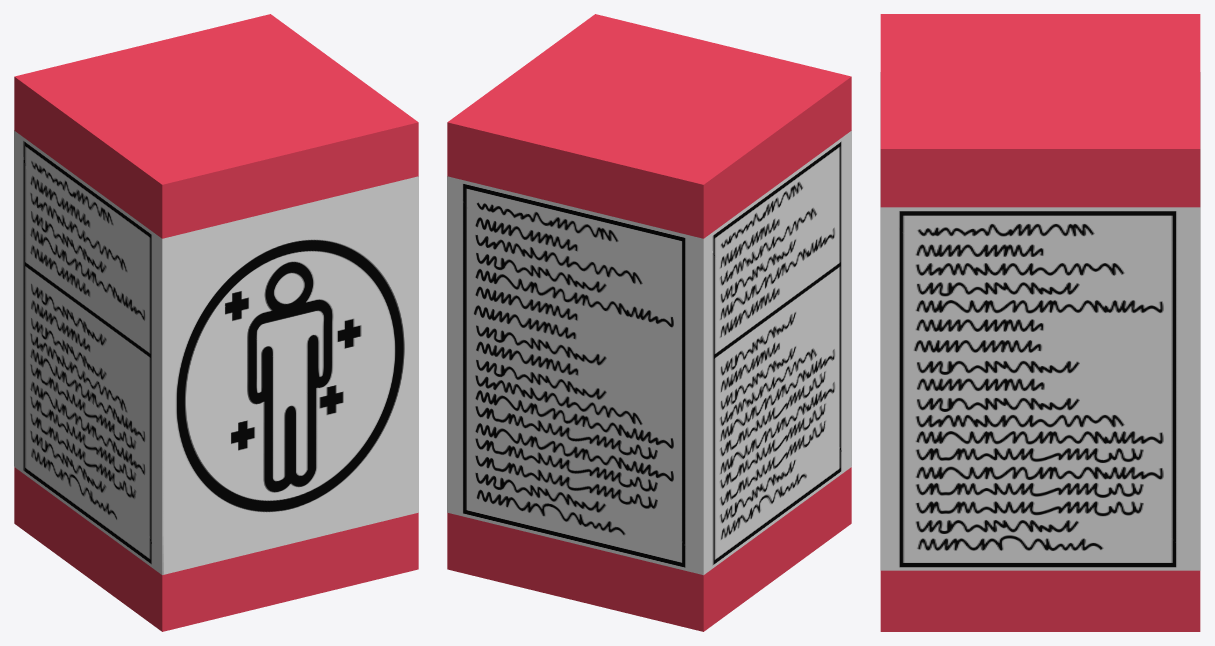
The model's file is genPainOTC.fbx.
3 views of the same model, side by side, from view 1: azimuth 30°, elevation 25°; view 2: azimuth 150°, elevation 25°; view 3: azimuth 270°, elevation 25° (orthographic). The views are drawn at different scales.
Visible parts, largest first — view 1: genPainLabel, painReliefBox; view 2: genPainLabel, painReliefBox; view 3: genPainLabel, painReliefBox.
Boxes of the visible parts, bbox=[...] form: genPainLabel: bbox=[14, 130, 418, 574]; painReliefBox: bbox=[14, 14, 418, 631]; genPainLabel: bbox=[447, 130, 851, 575]; painReliefBox: bbox=[447, 14, 851, 631]; genPainLabel: bbox=[880, 72, 1200, 570]; painReliefBox: bbox=[880, 14, 1200, 631].
Size of the model in its own units: 12.01 by 20 by 12.01.
